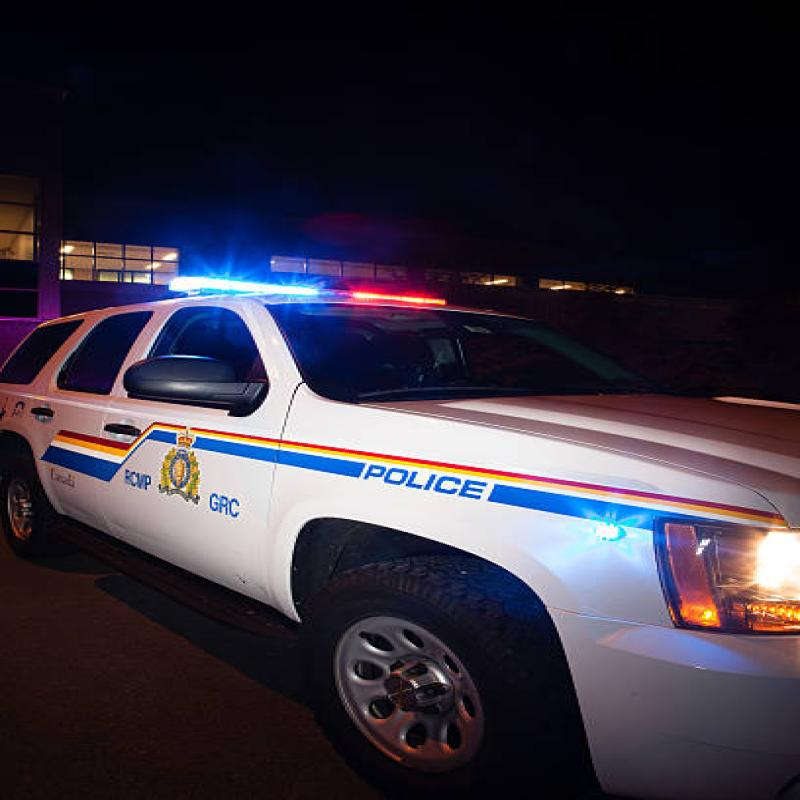AmbulanceSiren: (127, 252, 508, 336)
